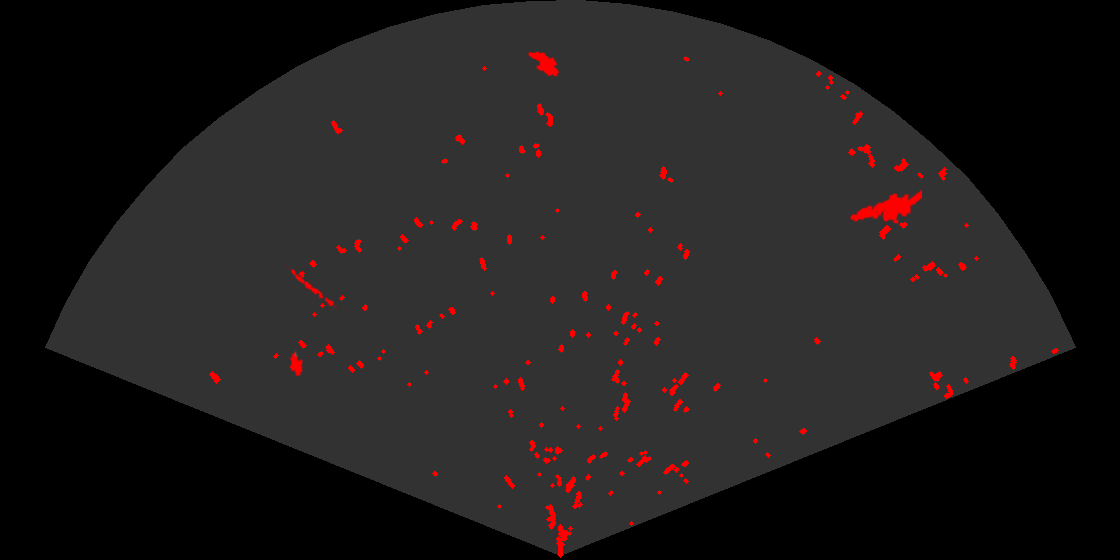AUV: (526, 50, 561, 78), (288, 350, 305, 378)
chain: (283, 265, 337, 311)
frogman: (848, 188, 922, 226)
